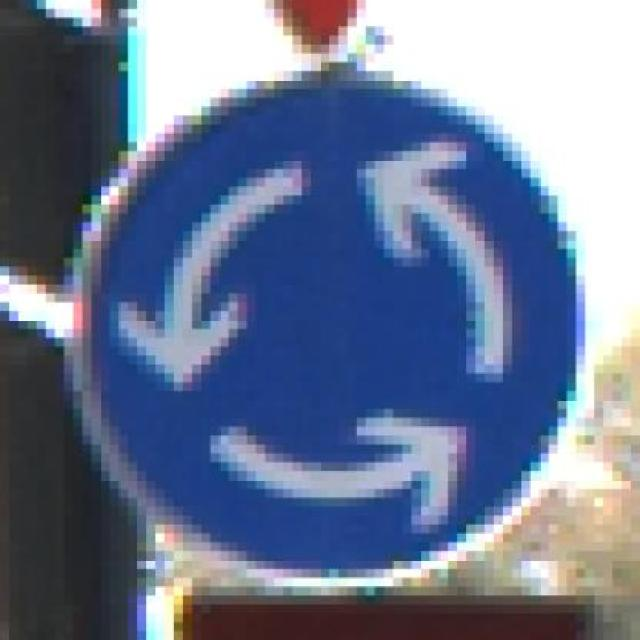Round-About: (46, 62, 586, 596)
